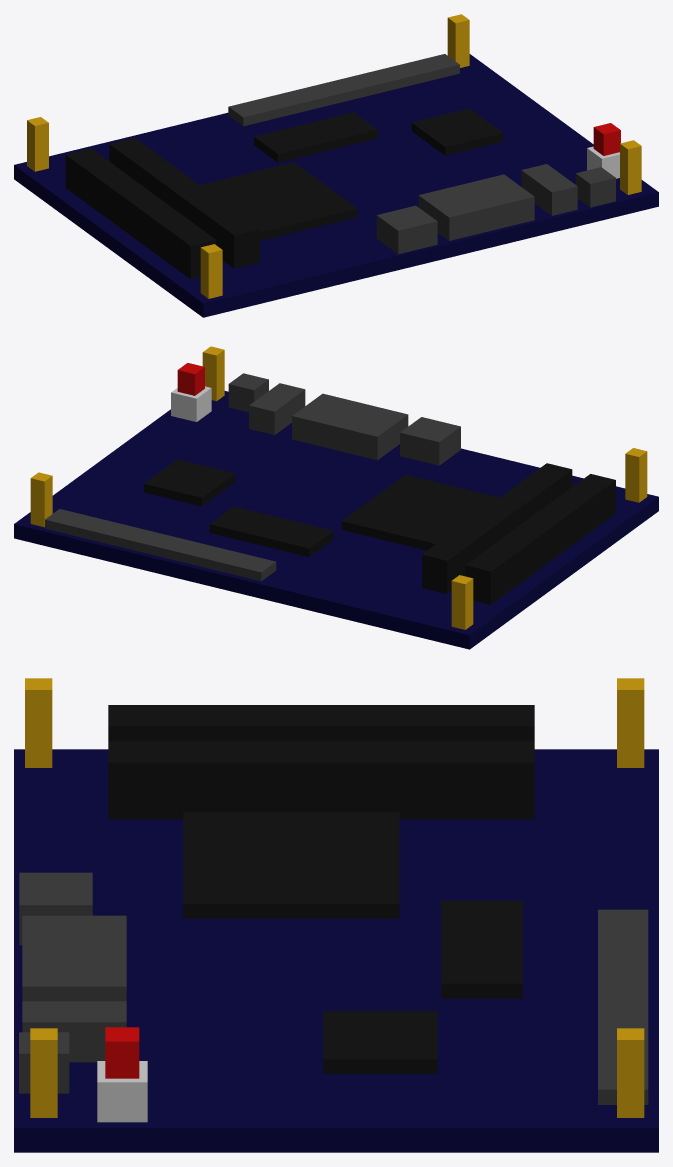
Rendered from Board.obj.
3 renders of one model, top to bottom at view 1: azimuth 30°, elevation 25°; view 2: azimuth 150°, elevation 25°; view 3: azimuth 270°, elevation 25°, orthographic. The views are drawn at different scales.
Parts seen in each view (by area): view 1: Cube, Cube.004, Cube.002, Cube.005, Cube.003, Cube.008, Cube.013, Cube.012, Cube.009, Cube.001, Cube.007, Cube.016 (+5 smaller); view 2: Cube, Cube.004, Cube.002, Cube.005, Cube.003, Cube.008, Cube.013, Cube.012, Cube.009, Cube.001, Cube.015, Cube.016 (+5 smaller); view 3: Cube, Cube.005, Cube.002, Cube.004, Cube.008, Cube.013, Cube.003, Cube.012, Cube.001, Cube.009, Cube.010, Cube.006 (+5 smaller).
Part boxes in pixels (left/top/right/bottom): Cube: left=14, top=54, right=658, bottom=317; Cube.004: left=65, top=148, right=216, bottom=279; Cube.002: left=200, top=162, right=357, bottom=240; Cube.005: left=109, top=138, right=259, bottom=268; Cube.003: left=228, top=54, right=459, bottom=126; Cube.008: left=418, top=174, right=534, bottom=240; Cube.013: left=254, top=112, right=377, bottom=162; Cube.012: left=411, top=108, right=503, bottom=155; Cube.009: left=376, top=205, right=437, bottom=254; Cube.001: left=521, top=164, right=577, bottom=215; Cube.007: left=575, top=167, right=615, bottom=207; Cube.016: left=200, top=244, right=222, bottom=298; Cube: left=14, top=391, right=658, bottom=649; Cube.004: left=465, top=474, right=615, bottom=604; Cube.002: left=341, top=474, right=498, bottom=550; Cube.005: left=422, top=463, right=572, bottom=593; Cube.003: left=45, top=509, right=276, bottom=581; Cube.008: left=292, top=393, right=408, bottom=460; Cube.013: left=209, top=506, right=333, bottom=557; Cube.012: left=144, top=459, right=235, bottom=506; Cube.009: left=400, top=417, right=460, bottom=465; Cube.001: left=249, top=383, right=305, bottom=435; Cube.015: left=451, top=575, right=473, bottom=629; Cube.016: left=625, top=448, right=647, bottom=502; Cube: left=14, top=749, right=658, bottom=1152; Cube.005: left=108, top=741, right=534, bottom=819; Cube.002: left=183, top=812, right=399, bottom=918; Cube.004: left=108, top=705, right=534, bottom=741; Cube.008: left=22, top=915, right=126, bottom=1001; Cube.013: left=441, top=900, right=522, bottom=998; Cube.003: left=598, top=909, right=648, bottom=1104; Cube.012: left=323, top=1011, right=437, bottom=1073; Cube.001: left=22, top=1001, right=126, bottom=1062; Cube.009: left=19, top=872, right=92, bottom=945; Cube.010: left=97, top=1061, right=147, bottom=1122; Cube.006: left=30, top=1028, right=57, bottom=1117.
Bounding box in the file's own units: 2.78 × 0.3503 × 2.
